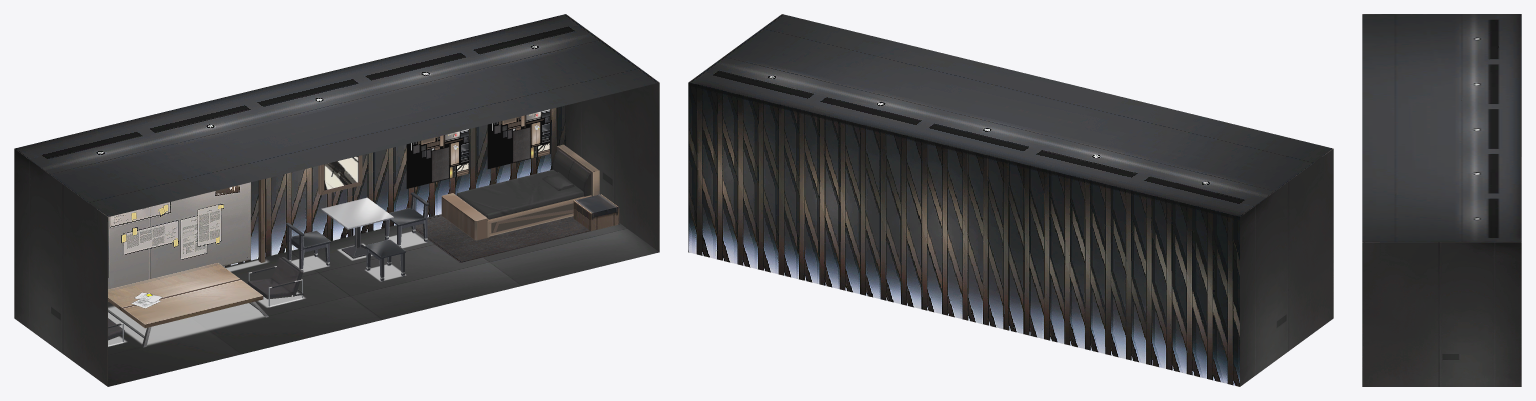
The picture shows the model from 3 angles, left to right: view 1: azimuth 30°, elevation 25°; view 2: azimuth 150°, elevation 25°; view 3: azimuth 270°, elevation 25°; orthographic projection. The views are drawn at different scales.
Visible parts, largest first — view 1: ROOM_room, ROOM_floor, furni_s2_bulletinboard_01, furni_s2_bed_01, furni_s2_lowtable_01, furni_s2_carpet_02, light, light.001, shadow12, furni_s2_table_01, ROOM_LDoor, ROOM_RDoor (+6 smaller); view 2: ROOM_room, ROOM_LDoor; view 3: ROOM_room, ROOM_RDoor.
Part boxes in pixels (x1=…): ROOM_room: x1=14, y1=14, x2=659, y2=386; ROOM_floor: x1=108, y1=214, x2=659, y2=386; furni_s2_bulletinboard_01: x1=108, y1=179, x2=265, y2=289; furni_s2_bed_01: x1=441, y1=144, x2=599, y2=240; furni_s2_lowtable_01: x1=108, y1=263, x2=268, y2=347; furni_s2_carpet_02: x1=411, y1=215, x2=619, y2=262; light: x1=406, y1=129, x2=469, y2=188; light.001: x1=487, y1=109, x2=550, y2=168; shadow12: x1=108, y1=303, x2=264, y2=345; furni_s2_table_01: x1=321, y1=197, x2=393, y2=259; ROOM_LDoor: x1=75, y1=286, x2=94, y2=376; ROOM_RDoor: x1=626, y1=151, x2=645, y2=241; ROOM_room: x1=688, y1=14, x2=1333, y2=386; ROOM_LDoor: x1=1300, y1=251, x2=1319, y2=341; ROOM_room: x1=1362, y1=14, x2=1521, y2=386; ROOM_RDoor: x1=1385, y1=321, x2=1418, y2=386.
Bounding box in the file's own units: 7.48 × 2.2 × 2.2.
5 materials, 5 textured.
